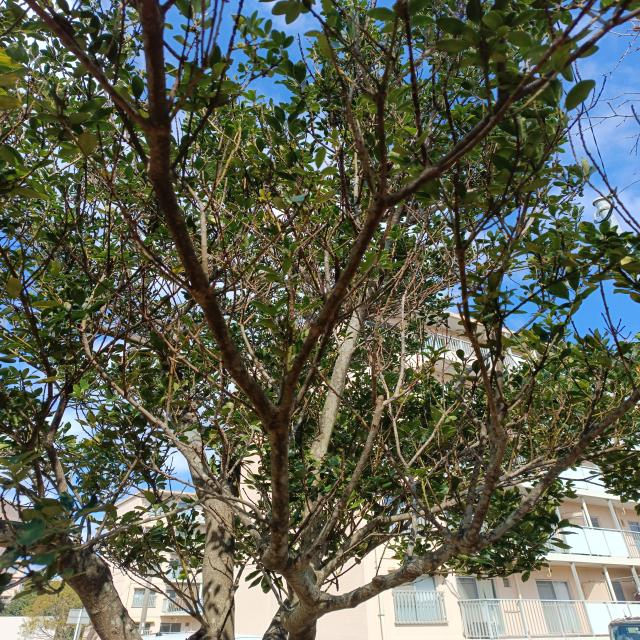Branch: (124, 0, 274, 422), (284, 530, 486, 639), (259, 406, 290, 569), (274, 552, 317, 599)
Twig: (280, 1, 595, 409), (80, 315, 266, 552), (320, 442, 626, 575), (1, 493, 270, 592), (483, 386, 640, 542), (455, 308, 546, 529), (457, 228, 507, 534), (298, 396, 384, 570), (171, 0, 242, 173), (375, 0, 400, 196), (341, 98, 377, 201)
